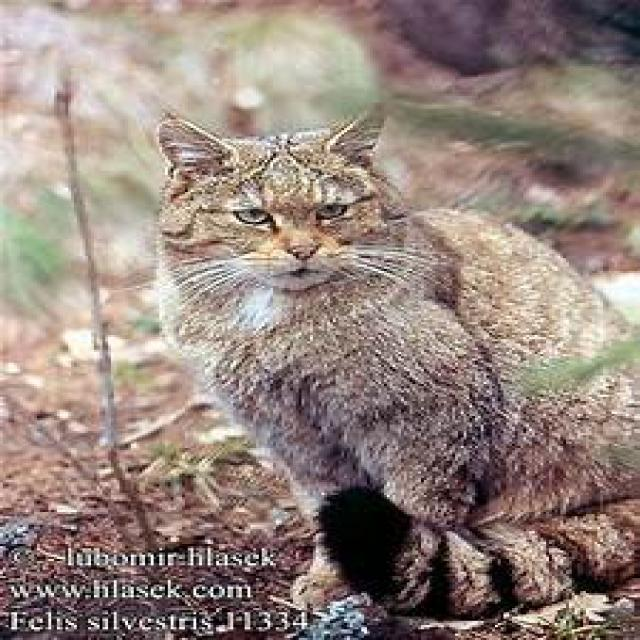animal: (151, 107, 637, 620)
